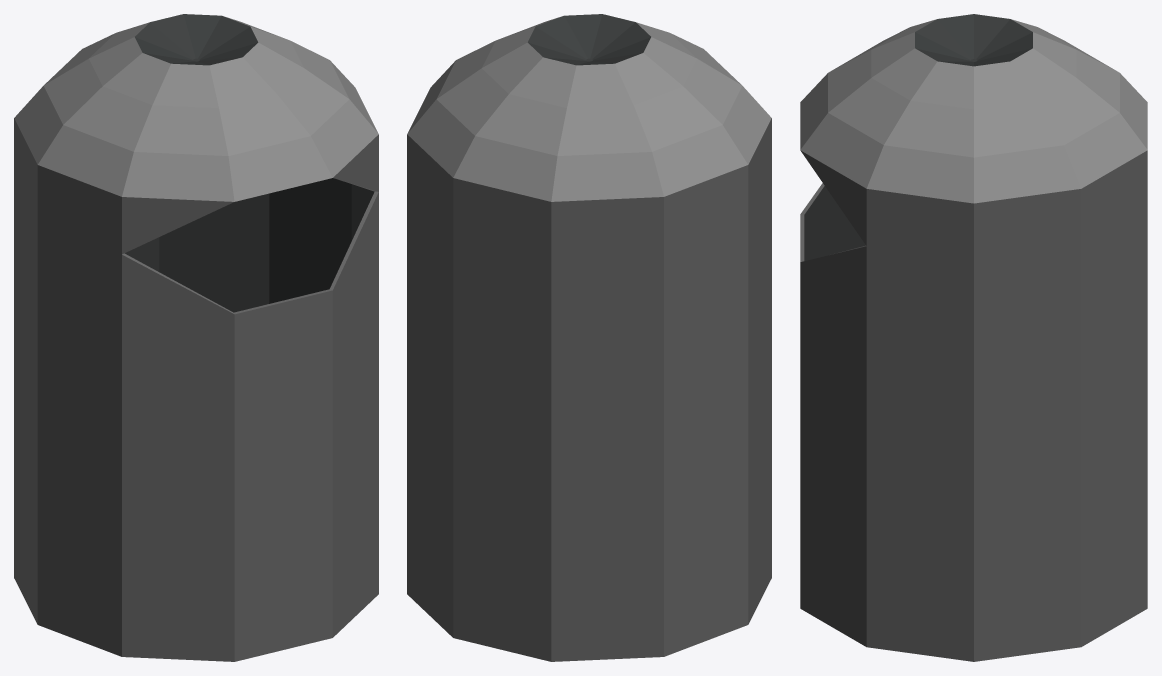
File: Model_Kosz2.fbx
3 renders of one model, left to right at view 1: azimuth 30°, elevation 25°; view 2: azimuth 150°, elevation 25°; view 3: azimuth 270°, elevation 25°, orthographic.
Parts seen in each view (by area): view 1: Cylinder; view 2: Cylinder; view 3: Cylinder.
Part boxes in pixels (x1=…): Cylinder: x1=14, y1=14, x2=378, y2=661; Cylinder: x1=407, y1=14, x2=771, y2=661; Cylinder: x1=800, y1=14, x2=1147, y2=661.
Size of the model in its own units: 63.09 by 109 by 66.34.
